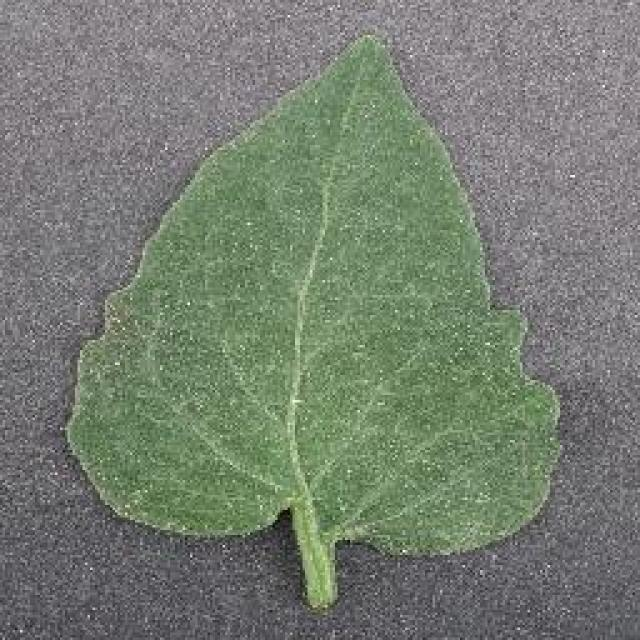Tomato___healthy: (63, 28, 566, 609)
